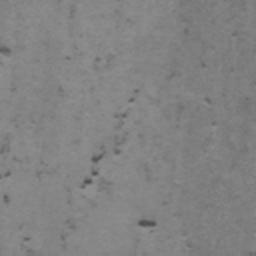Oxide scale of temperature system: (0, 142, 74, 242), (81, 146, 124, 189), (119, 87, 141, 120), (136, 218, 156, 228), (0, 44, 12, 58), (204, 95, 212, 105), (64, 54, 72, 61), (200, 60, 207, 68), (247, 250, 256, 256)
